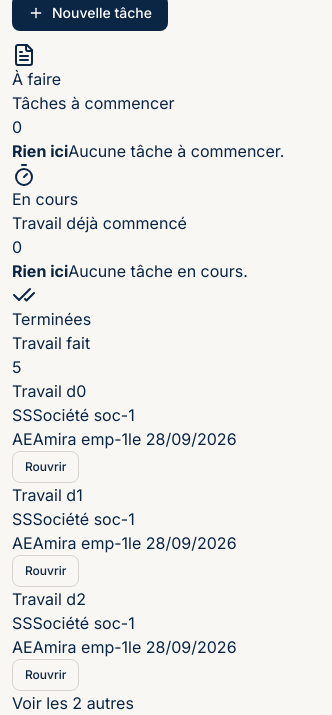
onglet Tâches du cabinet : affichage › la colonne Terminées se limite à trois cartes, puis « Voir les N autres »
(page scrolled)
Expected: the number of elements with class "atk-card" is 3, [12,381,236,483]; [12,485,236,587]; [12,589,236,691]
Click the button "Voir les 2 autres" at (73, 703), box [12,691,134,714]
(page scrolled)
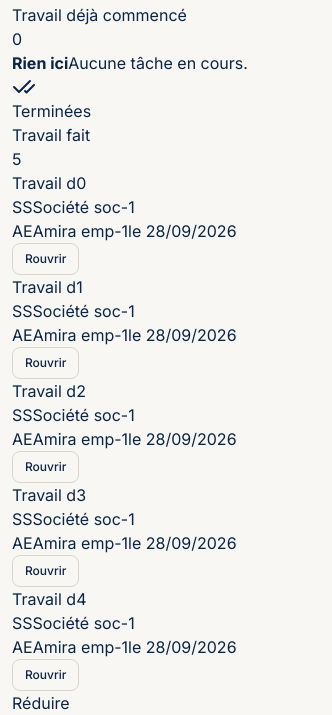
Expected: the number of elements with class "atk-card" is 5, [12,173,236,275]; [12,277,236,379]; [12,381,236,483]; [12,485,236,587]; [12,589,236,691]
Click the button "Réduire" at (41, 703), box [12,691,70,714]
(page scrolled)
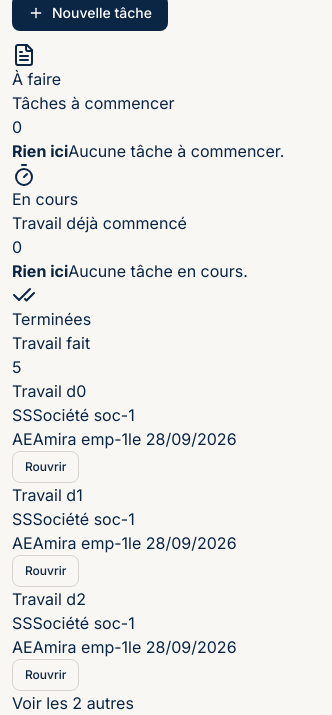
Expected: the number of elements with class "atk-card" is 3, [12,381,236,483]; [12,485,236,587]; [12,589,236,691]
